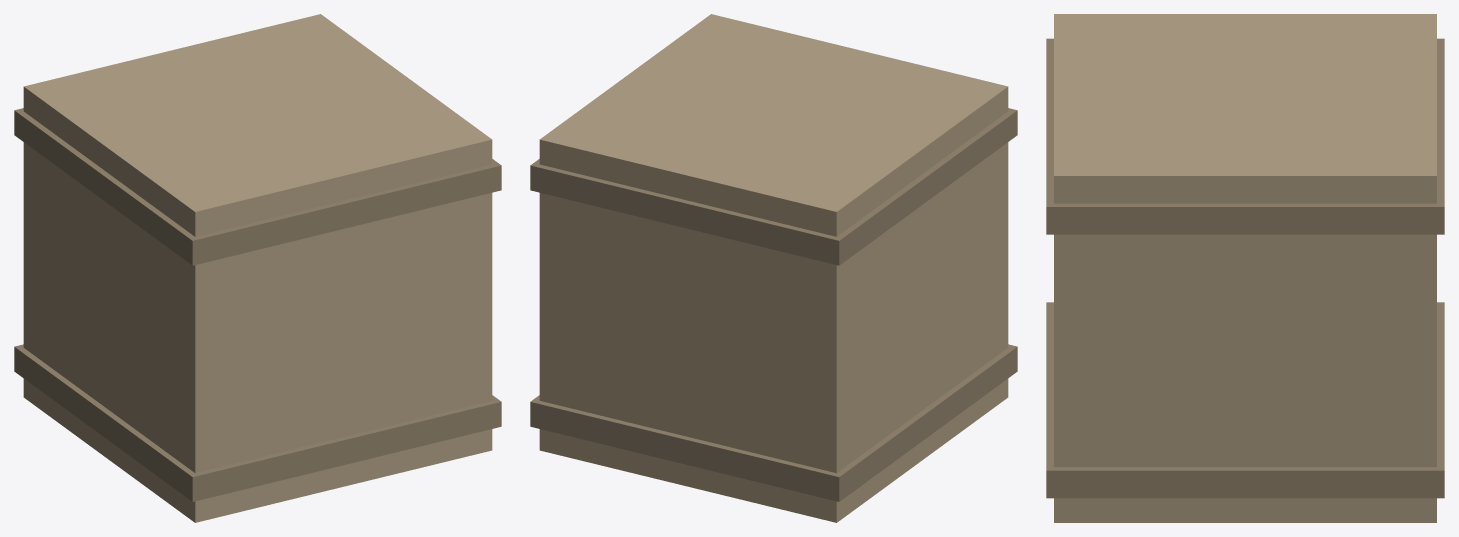
Rendered from crate.glb.
3 views of the same model, side by side, from view 1: azimuth 30°, elevation 25°; view 2: azimuth 150°, elevation 25°; view 3: azimuth 270°, elevation 25° (orthographic). The views are drawn at different scales.
Parts seen in each view (by area): view 1: Crate; view 2: Crate; view 3: Crate.
Part boxes in pixels (box(x1,y1,x2,y2)): Crate: box(14, 14, 501, 522); Crate: box(530, 14, 1017, 522); Crate: box(1046, 14, 1444, 522).
Size of what is drawn, in the model's own units: 1.04 by 1 by 1.04.
